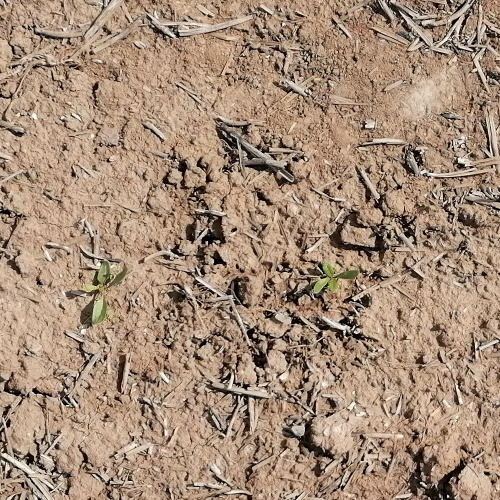beet: (79, 262, 128, 325), (313, 262, 361, 295)
